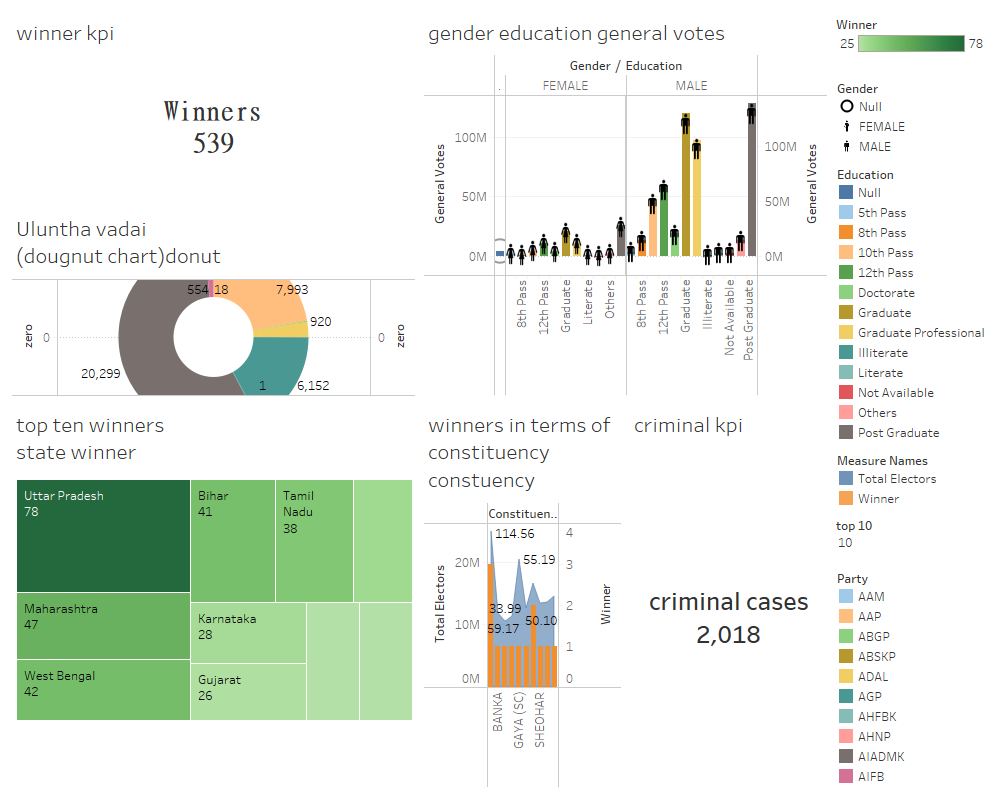

What the dashboard file says about the page in this screenshot:
{"tool":"tableau","page":{"name":"Dashboard 1","canvas":[1000,800],"ordinal":0},"visuals":[{"type":"worksheet","title":"winners","mark":"Automatic","box":[8,8,412,196]},{"type":"worksheet","title":"Sheet 4","mark":"Automatic","rows":["GENERAL VOTES","GENERAL VOTES"],"cols":["GENDER","EDUCATION"],"box":[420,8,412,392]},{"type":"legend","title":"state winner","param":"[federated.0i64tj6190rcs61asqhf51gzl9pc].[sum:WINNER:qk]","box":[832,8,160,65]},{"type":"legend","title":"Sheet 4","param":"[federated.0i64tj6190rcs61asqhf51gzl9pc].[none:GENDER:nk]","box":[832,73,160,86]},{"type":"legend","title":"Sheet 4","param":"[federated.0i64tj6190rcs61asqhf51gzl9pc].[none:EDUCATION:nk]","box":[832,159,160,286]},{"type":"worksheet","title":"donut","mark":"Pie","rows":["Calculation_605734160658624512","Calculation_605734160658624512"],"box":[8,204,412,196]},{"type":"worksheet","title":"state winner","mark":"Automatic","box":[8,400,412,392]},{"type":"worksheet","title":"constuency","mark":"Automatic","rows":["TOTAL ELECTORS","WINNER"],"cols":["CONSTITUENCY"],"box":[420,400,206,392]},{"type":"worksheet","title":"criminal","mark":"Automatic","box":[626,400,206,392]},{"type":"legend","title":"constuency","param":"[federated.0i64tj6190rcs61asqhf51gzl9pc].[:Measure Names]","box":[832,445,160,66]},{"type":"parameter","param":"[Parameters].[Parameter 1]","box":[832,511,160,52]},{"type":"legend","title":"donut","param":"[federated.0i64tj6190rcs61asqhf51gzl9pc].[none:PARTY:nk]","box":[832,563,160,226]}]}

Visuals, with their boxes in screenshot pixels (x1, y1, x2, y2), scaled from the page's 1000x800 canvas onto the 1000x800 screenshot:
"winners" worksheet: BBox(8, 8, 420, 204)
"Sheet 4" worksheet: BBox(420, 8, 832, 400)
"state winner" legend: BBox(832, 8, 992, 73)
"Sheet 4" legend: BBox(832, 73, 992, 159)
"Sheet 4" legend: BBox(832, 159, 992, 445)
"donut" worksheet (Pie marks): BBox(8, 204, 420, 400)
"state winner" worksheet: BBox(8, 400, 420, 792)
"constuency" worksheet: BBox(420, 400, 626, 792)
"criminal" worksheet: BBox(626, 400, 832, 792)
"constuency" legend: BBox(832, 445, 992, 511)
parameter: BBox(832, 511, 992, 563)
"donut" legend: BBox(832, 563, 992, 789)
